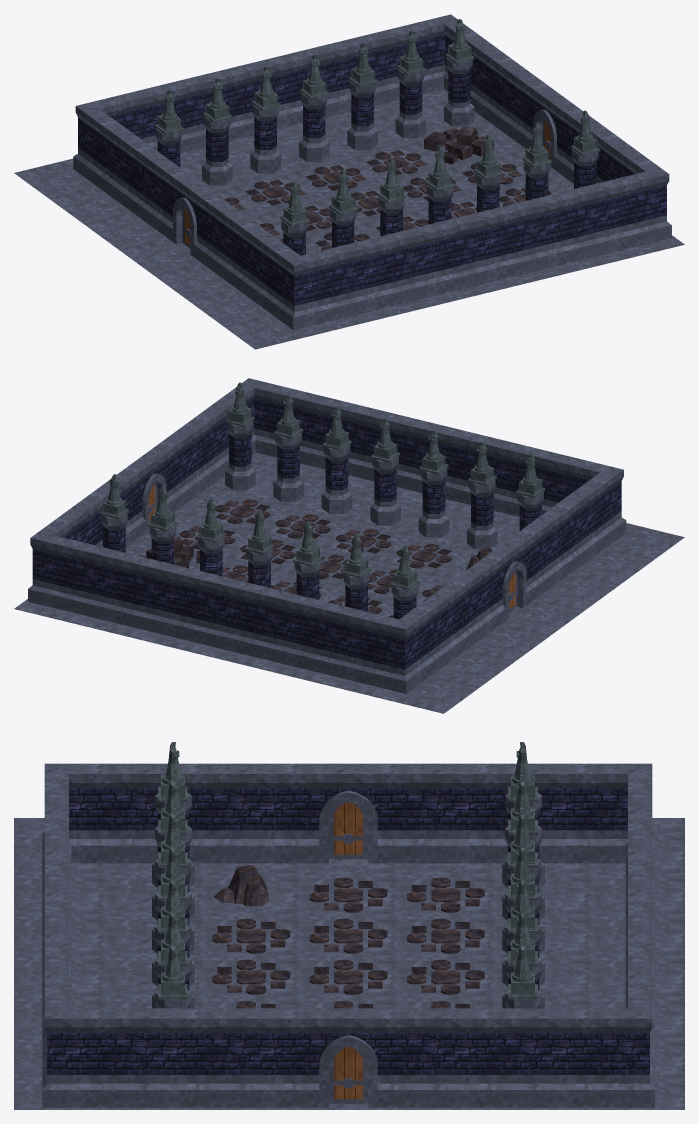
The model's file is temple.glb.
The picture shows the model from 3 angles, top to bottom: view 1: azimuth 30°, elevation 25°; view 2: azimuth 150°, elevation 25°; view 3: azimuth 270°, elevation 25°; orthographic projection. The views are drawn at different scales.
Parts seen in each view (by area): view 1: mergedBlocks(Clone); view 2: mergedBlocks(Clone); view 3: mergedBlocks(Clone).
Boxes of the visible parts, box(x1,y1,x2,y2) form: mergedBlocks(Clone): box(14, 14, 684, 349); mergedBlocks(Clone): box(14, 378, 684, 713); mergedBlocks(Clone): box(14, 742, 684, 1109).
Bounding box in the file's own units: 7.1 × 1.61 × 6.9.
Materials: 5 (5 with a texture image).
